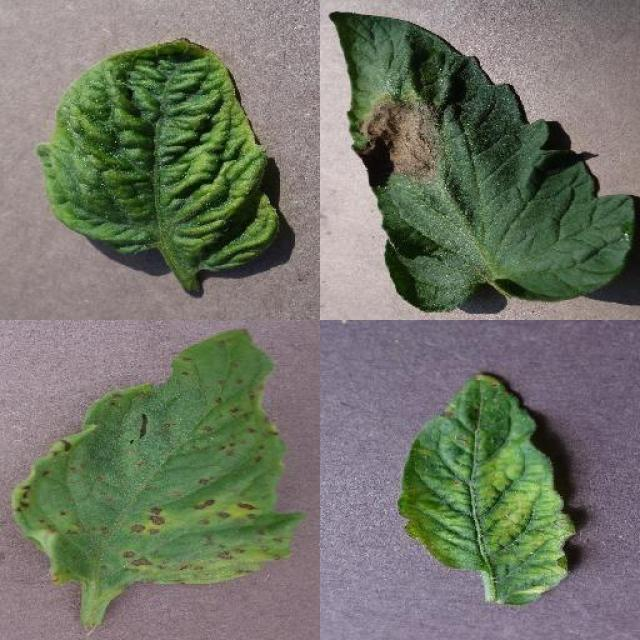Late Blight: (326, 9, 639, 314)
Septoria: (14, 328, 305, 588)
